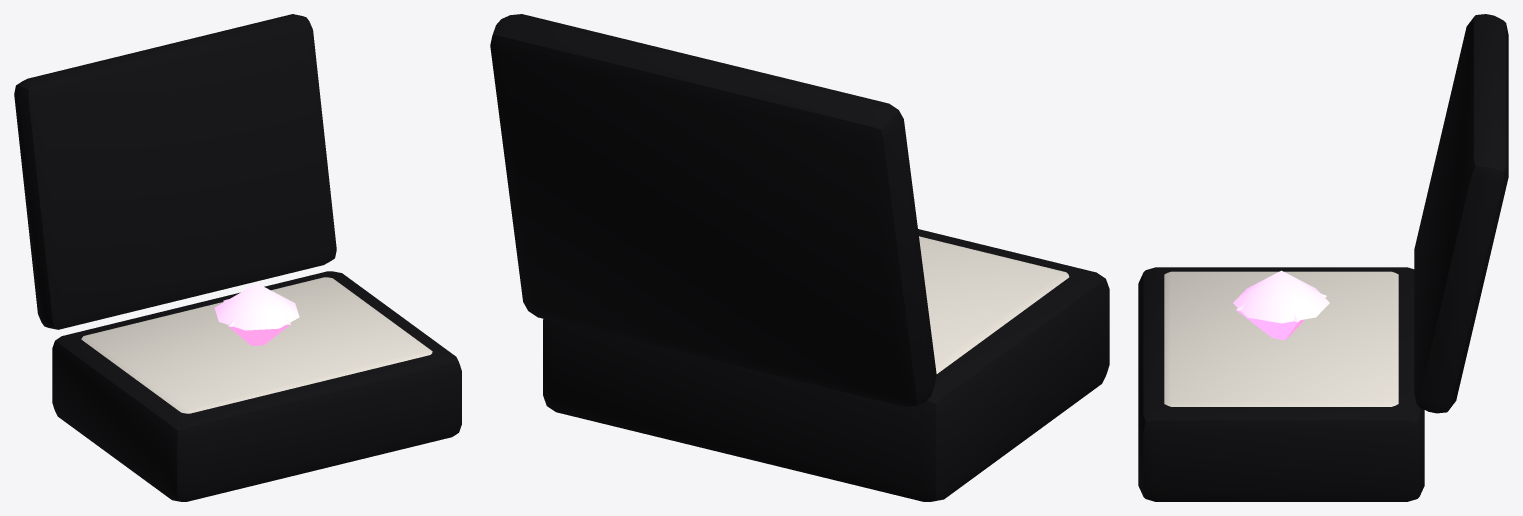
Rendered from tideline_rose_case.glb.
3 renders of one model, left to right at view 1: azimuth 30°, elevation 25°; view 2: azimuth 150°, elevation 25°; view 3: azimuth 270°, elevation 25°, orthographic. The views are drawn at different scales.
Parts seen in each view (by area): view 1: tideline_rose_case; view 2: tideline_rose_case; view 3: tideline_rose_case.
Part boxes in pixels (x1,y1,x2,y2): tideline_rose_case: (14, 14, 461, 501); tideline_rose_case: (490, 14, 1109, 501); tideline_rose_case: (1138, 14, 1508, 501).
Size of the model in its own units: 0.26 by 0.2652 by 0.2587.
